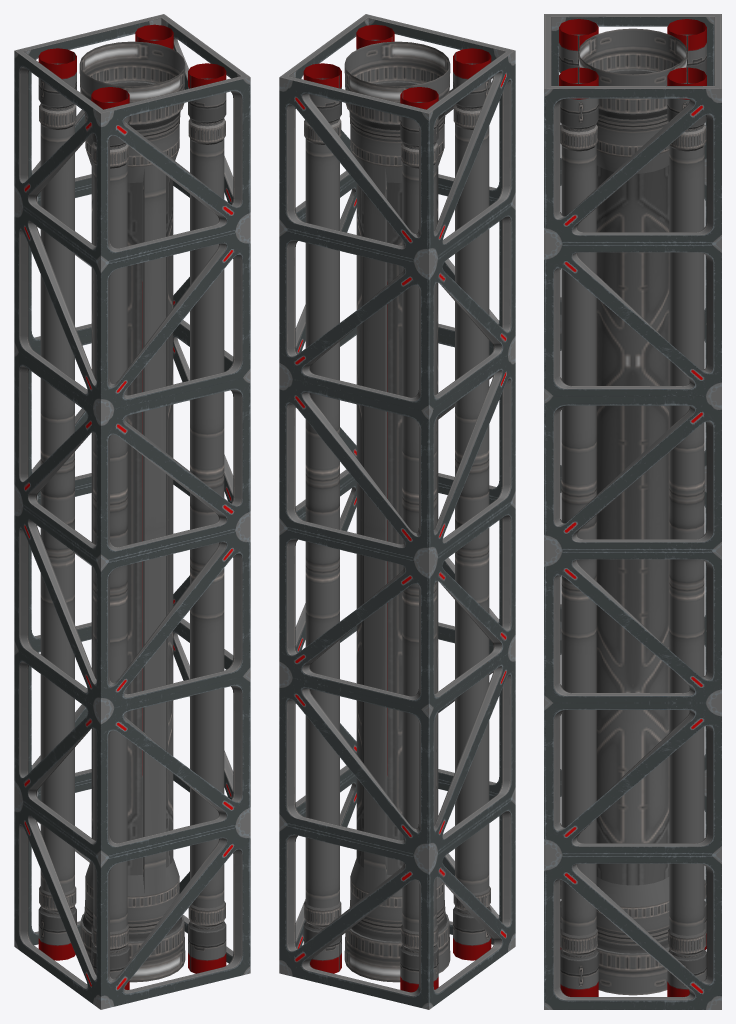
File: Column_Pipes.gltf
The picture shows the model from 3 angles, left to right: view 1: azimuth 30°, elevation 25°; view 2: azimuth 150°, elevation 25°; view 3: azimuth 270°, elevation 25°; orthographic projection. The views are drawn at different scales.
Parts seen in each view (by area): view 1: Column_Pipes; view 2: Column_Pipes; view 3: Column_Pipes.
Part boxes in pixels (bbox=[...]): Column_Pipes: bbox=[14, 14, 250, 1009]; Column_Pipes: bbox=[279, 14, 515, 1009]; Column_Pipes: bbox=[544, 14, 721, 1009].
Size of the model in its own units: 0.8746 by 5 by 0.8746.
3 materials, 3 textured.
